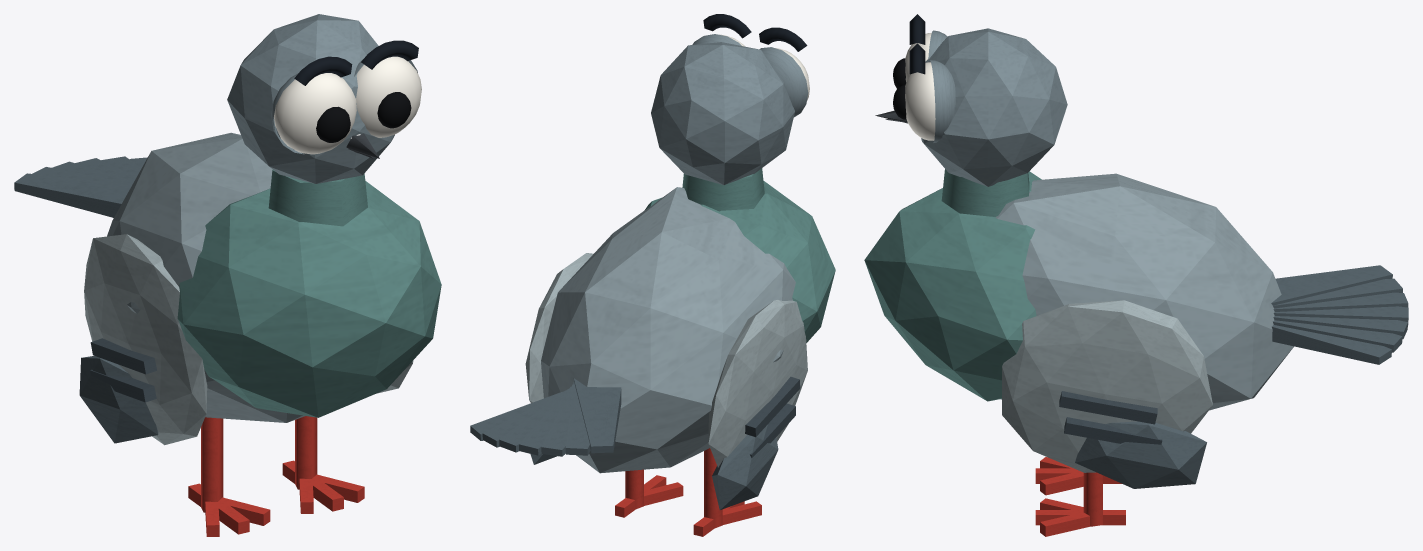
The model's file is pigeon.glb.
3 renders of one model, left to right at view 1: azimuth 30°, elevation 25°; view 2: azimuth 150°, elevation 25°; view 3: azimuth 270°, elevation 25°, orthographic. The views are drawn at different scales.
Visible parts, largest first — view 1: body, head, wingR, tail, neck, footR, footL, hipR, hipL; view 2: body, head, wingR, tail, wingL, neck, footL, footR, hipR, hipL; view 3: body, wingL, head, tail, neck, footL, footR, hipL.
Boxes of the visible parts, box(x1,y1,x2,y2) form: body: box(107, 132, 441, 422); head: box(227, 14, 421, 183); wingR: box(79, 234, 207, 445); tail: box(14, 156, 147, 217); neck: box(268, 169, 367, 226); footR: box(188, 483, 270, 536); footL: box(282, 460, 364, 513); hipR: box(201, 417, 223, 512); hipL: box(295, 416, 317, 489); body: box(541, 180, 835, 473); head: box(651, 14, 809, 184); wingR: box(708, 300, 807, 509); tail: box(470, 378, 621, 456); wingL: box(525, 253, 593, 464); neck: box(682, 168, 764, 211); footL: box(615, 475, 683, 517); footR: box(693, 501, 761, 536); hipR: box(704, 448, 722, 528); hipL: box(625, 469, 643, 509); body: box(864, 171, 1293, 410); wingL: box(1002, 300, 1212, 488); head: box(875, 14, 1067, 186); tail: box(1271, 265, 1408, 364); neck: box(941, 169, 1029, 216); footL: box(1035, 498, 1125, 536); footR: box(1035, 457, 1121, 495); hipL: box(1083, 472, 1102, 526).
Size of the model in its own units: 0.1828 by 0.3414 by 0.358.
16 materials, 13 textured.
